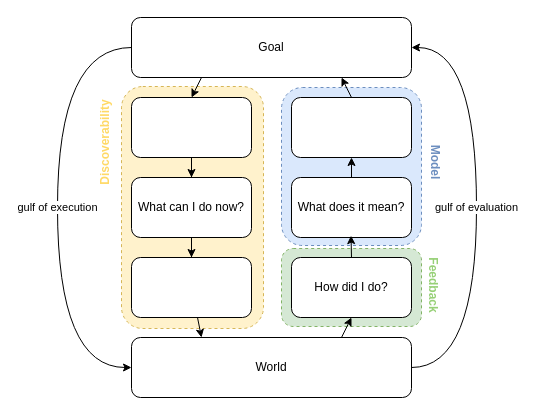
This 535x415 diagram has some shape labels left out. The shapes that lost their labels are listed below. From the top down, each one's centre as x and y in pixels, then its label:
At point (191, 127): "What can I do?".
At point (351, 127): "What's next?".
At point (191, 287): "How do I do that?".
